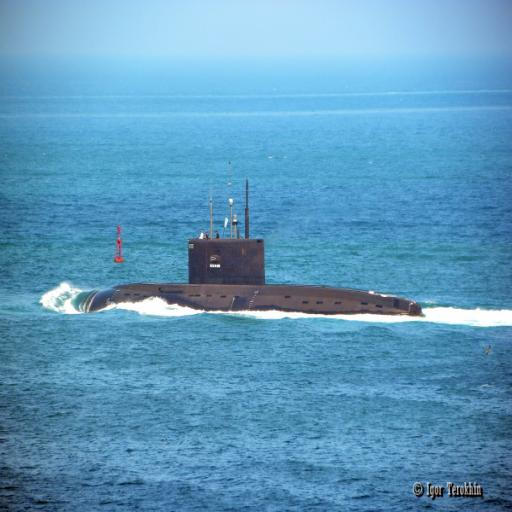submarine: (73, 170, 431, 315)
